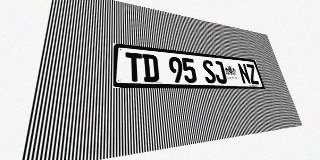5: (181, 58, 198, 83)
9: (168, 56, 185, 83)
D: (142, 54, 160, 82)
J: (212, 61, 228, 84)
N: (237, 63, 251, 84)
S: (201, 60, 217, 83)
T: (125, 52, 143, 82)
Z: (245, 64, 260, 84)
